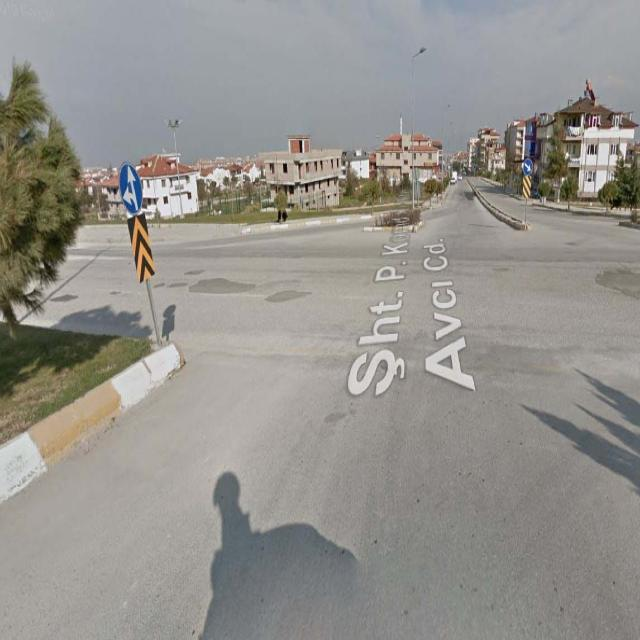ilerisol: (120, 162, 142, 212)
